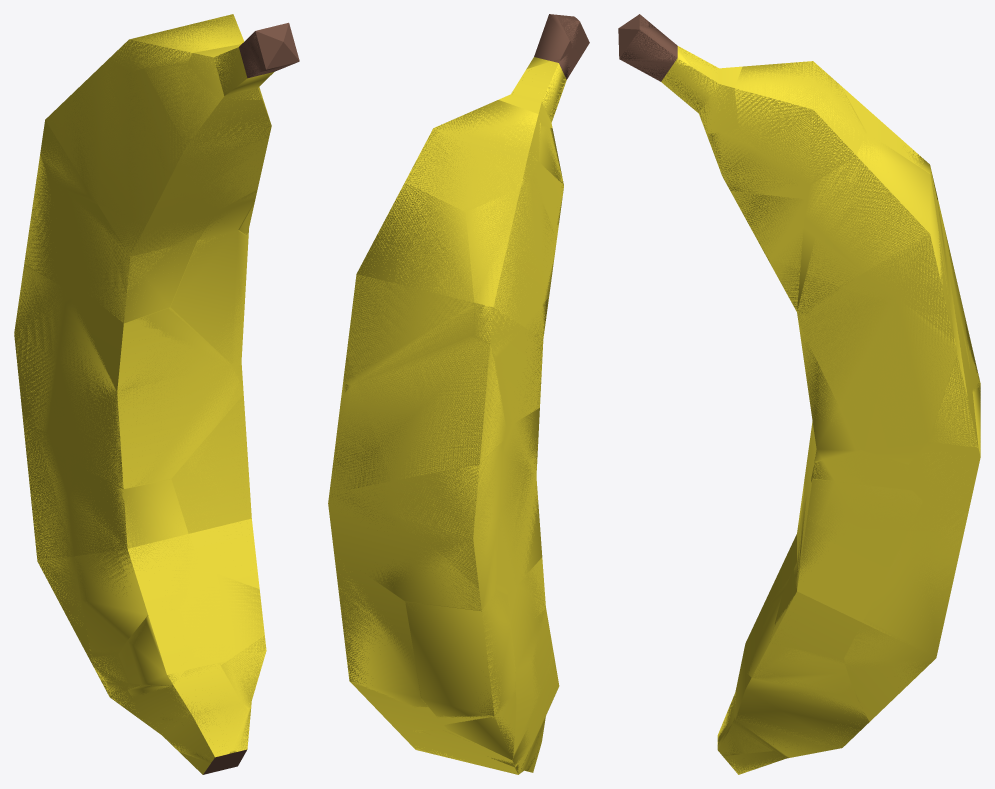
Rendered from banana.glb.
3 renders of one model, left to right at view 1: azimuth 30°, elevation 25°; view 2: azimuth 150°, elevation 25°; view 3: azimuth 270°, elevation 25°, orthographic. The views are drawn at different scales.
Visible parts, largest first — view 1: pasted__pCube11 group, pasted__pCube11 group_cell.014, pasted__pCube11 group_cell.006, pasted__pCube11 group_cell.018, pasted__pCube11 group_cell.020, pasted__pCube11 group_cell.035, pasted__pCube11 group_cell.024, pasted__pCube11 group_cell.025, pasted__pCube11 group_cell.001, pasted__pCube11 group_cell.026, pasted__pCube11 group_cell.029, pasted__pCube11 group_cell.012 (+7 smaller); view 2: pasted__pCube11 group, pasted__pCube11 group_cell.028, pasted__pCube11 group_cell.015, pasted__pCube11 group_cell.025, pasted__pCube11 group_cell.026, pasted__pCube11 group_cell.035, pasted__pCube11 group_cell.014, pasted__pCube11 group_cell.023, pasted__pCube11 group_cell.029, pasted__pCube11 group_cell.006, pasted__pCube11 group_cell, pasted__pCube11 group_cell.018 (+2 smaller); view 3: pasted__pCube11 group, pasted__pCube11 group_cell.031, pasted__pCube11 group_cell.028, pasted__pCube11 group_cell.023, pasted__pCube11 group_cell.029, pasted__pCube11 group_cell.032, pasted__pCube11 group_cell.017, pasted__pCube11 group_cell.024, pasted__pCube11 group_cell.020, pasted__pCube11 group_cell.015, pasted__pCube11 group_cell.001, pasted__pCube11 group_cell.012 (+5 smaller).
Part boxes in pixels (box(x1,y1,x2,y2)): pasted__pCube11 group: box(14, 14, 299, 774); pasted__pCube11 group_cell.014: box(48, 288, 243, 488); pasted__pCube11 group_cell.006: box(65, 461, 200, 653); pasted__pCube11 group_cell.018: box(55, 186, 213, 323); pasted__pCube11 group_cell.020: box(170, 191, 256, 368); pasted__pCube11 group_cell.035: box(40, 59, 212, 223); pasted__pCube11 group_cell.024: box(92, 569, 264, 685); pasted__pCube11 group_cell.025: box(24, 427, 92, 658); pasted__pCube11 group_cell.001: box(131, 64, 271, 170); pasted__pCube11 group_cell.026: box(14, 265, 63, 432); pasted__pCube11 group_cell.029: box(110, 14, 244, 70); pasted__pCube11 group_cell.012: box(167, 137, 269, 210); pasted__pCube11 group: box(328, 15, 589, 774); pasted__pCube11 group_cell.028: box(343, 183, 474, 385); pasted__pCube11 group_cell.015: box(330, 335, 506, 492); pasted__pCube11 group_cell.025: box(405, 590, 515, 760); pasted__pCube11 group_cell.026: box(329, 441, 503, 610); pasted__pCube11 group_cell.035: box(466, 179, 555, 358); pasted__pCube11 group_cell.014: box(496, 408, 542, 594); pasted__pCube11 group_cell.023: box(338, 569, 432, 730); pasted__pCube11 group_cell.029: box(405, 100, 540, 211); pasted__pCube11 group_cell.006: box(508, 568, 545, 751); pasted__pCube11 group_cell: box(526, 14, 572, 69); pasted__pCube11 group_cell.018: box(496, 297, 548, 427); pasted__pCube11 group: box(619, 14, 980, 774); pasted__pCube11 group_cell.031: box(770, 228, 957, 464); pasted__pCube11 group_cell.028: box(803, 139, 952, 337); pasted__pCube11 group_cell.023: box(844, 510, 967, 702); pasted__pCube11 group_cell.029: box(734, 61, 866, 184); pasted__pCube11 group_cell.032: box(732, 678, 869, 757); pasted__pCube11 group_cell.017: box(770, 479, 922, 644); pasted__pCube11 group_cell.024: box(747, 595, 851, 694); pasted__pCube11 group_cell.020: box(769, 261, 860, 461); pasted__pCube11 group_cell.015: box(929, 201, 977, 447); pasted__pCube11 group_cell.001: box(707, 129, 808, 197); pasted__pCube11 group_cell.012: box(731, 191, 805, 260).
Bounding box in the file's own units: 0.8724 × 4.12 × 1.81.
